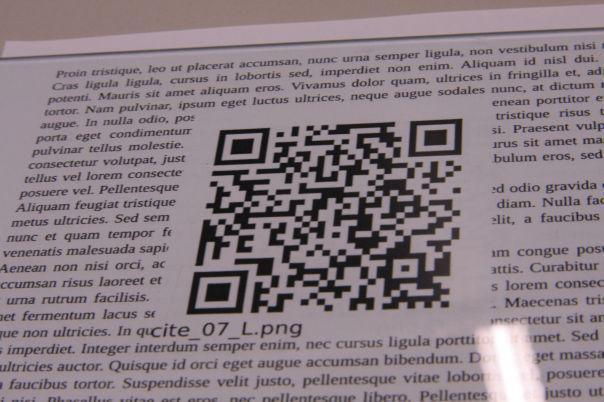qr_code: (186, 118, 463, 315)
